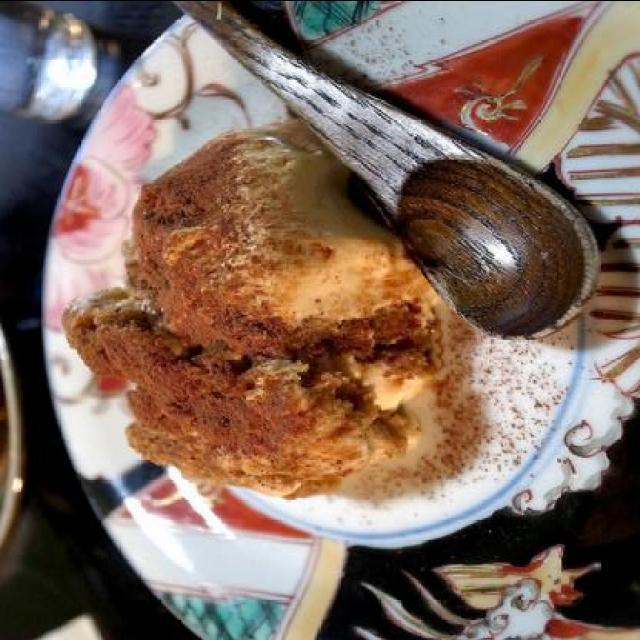Tiramisu: (64, 161, 433, 504)
